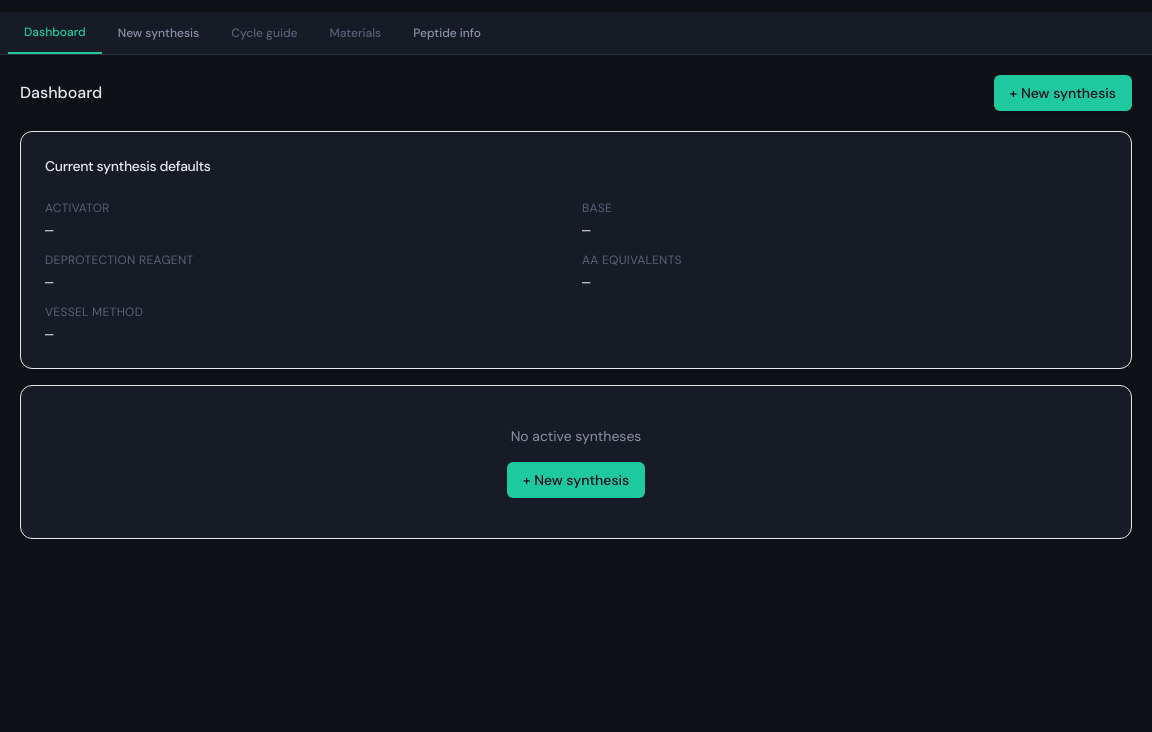
App › clicking the New synthesis tab switches to the wizard
expect the heading "Dashboard" is shown: met, box [20,81,102,105]
Click the button "New synthesis" at (158, 33), box [102,12,215,54]
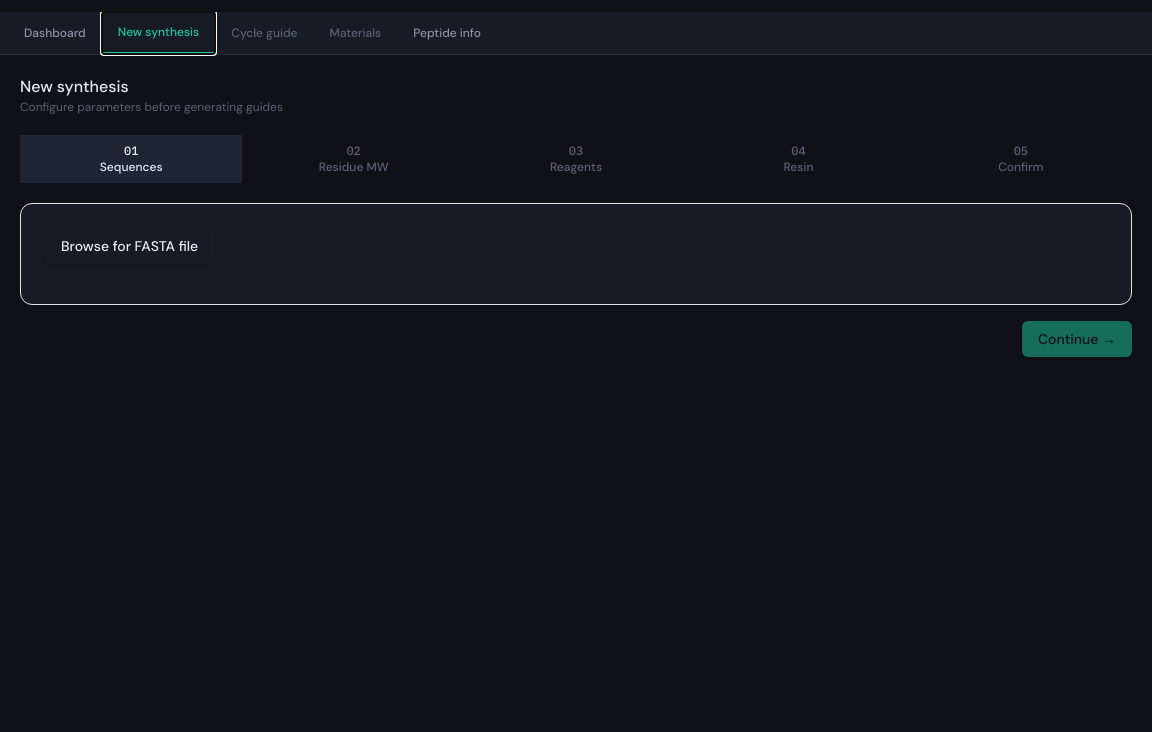
expect the heading "New synthesis" is shown: met, box [20,76,129,97]
